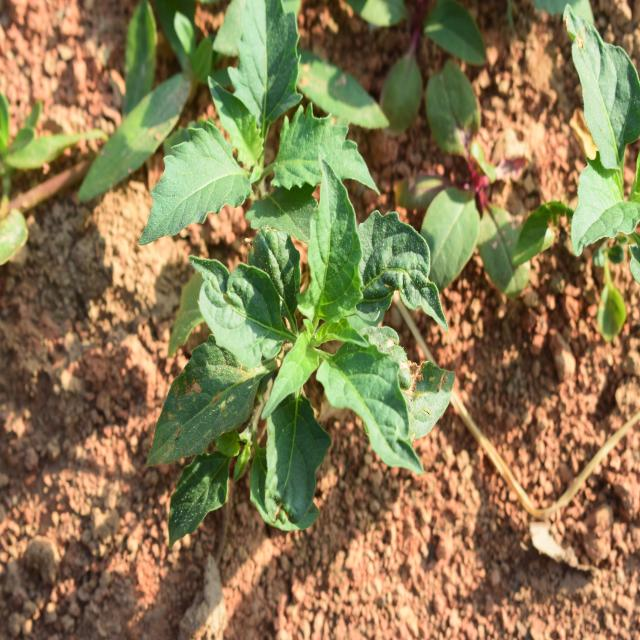Black_nightshade: (127, 169, 449, 522), (157, 9, 396, 258)
